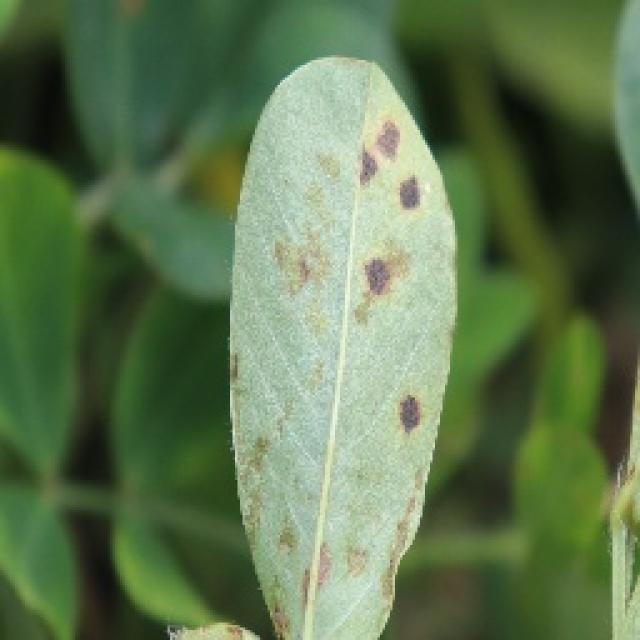Yellowish: (284, 102, 460, 312), (368, 370, 464, 478)
